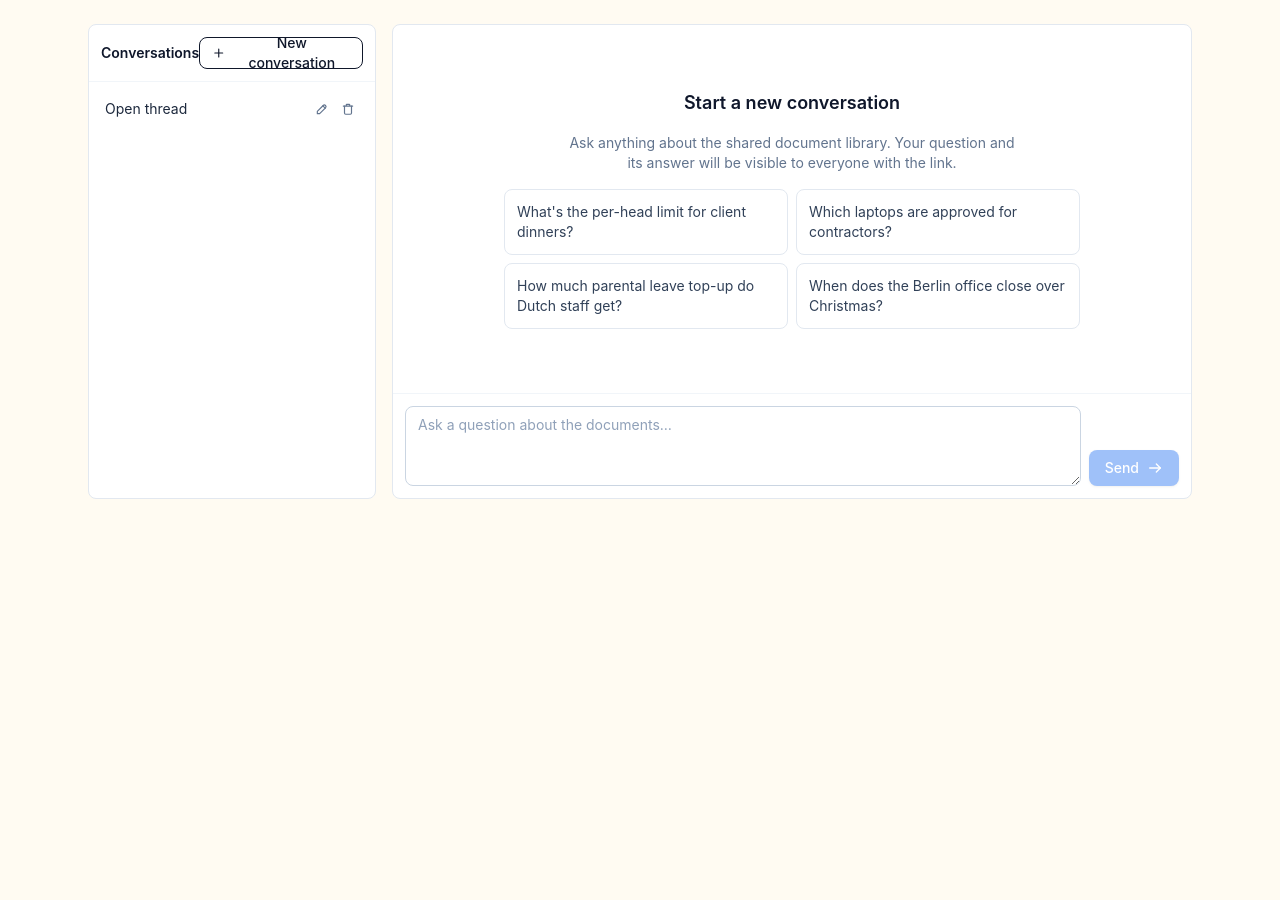
Test: Chat screen — live threads API › returns to the empty/new conversation state when deleting the currently open thread
The width and height of the screenshot is (1280, 900).
Click the button "Open thread" at (206, 109), box [105,99,307,119]
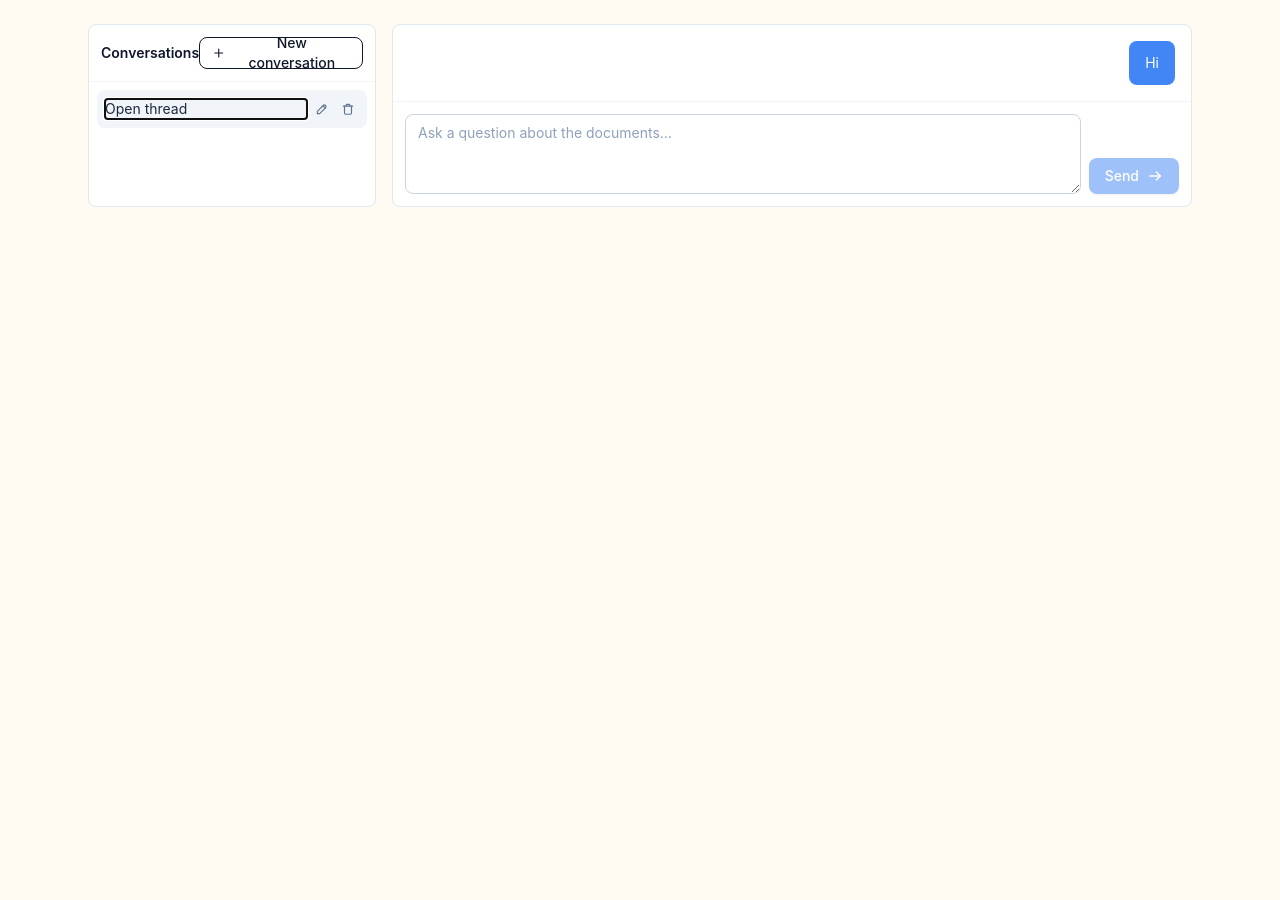
Expected: the text "Hi" is shown, [1145,53,1159,73]
Click the button named "Delete Open thread" at (348, 109), box [337,98,359,120]
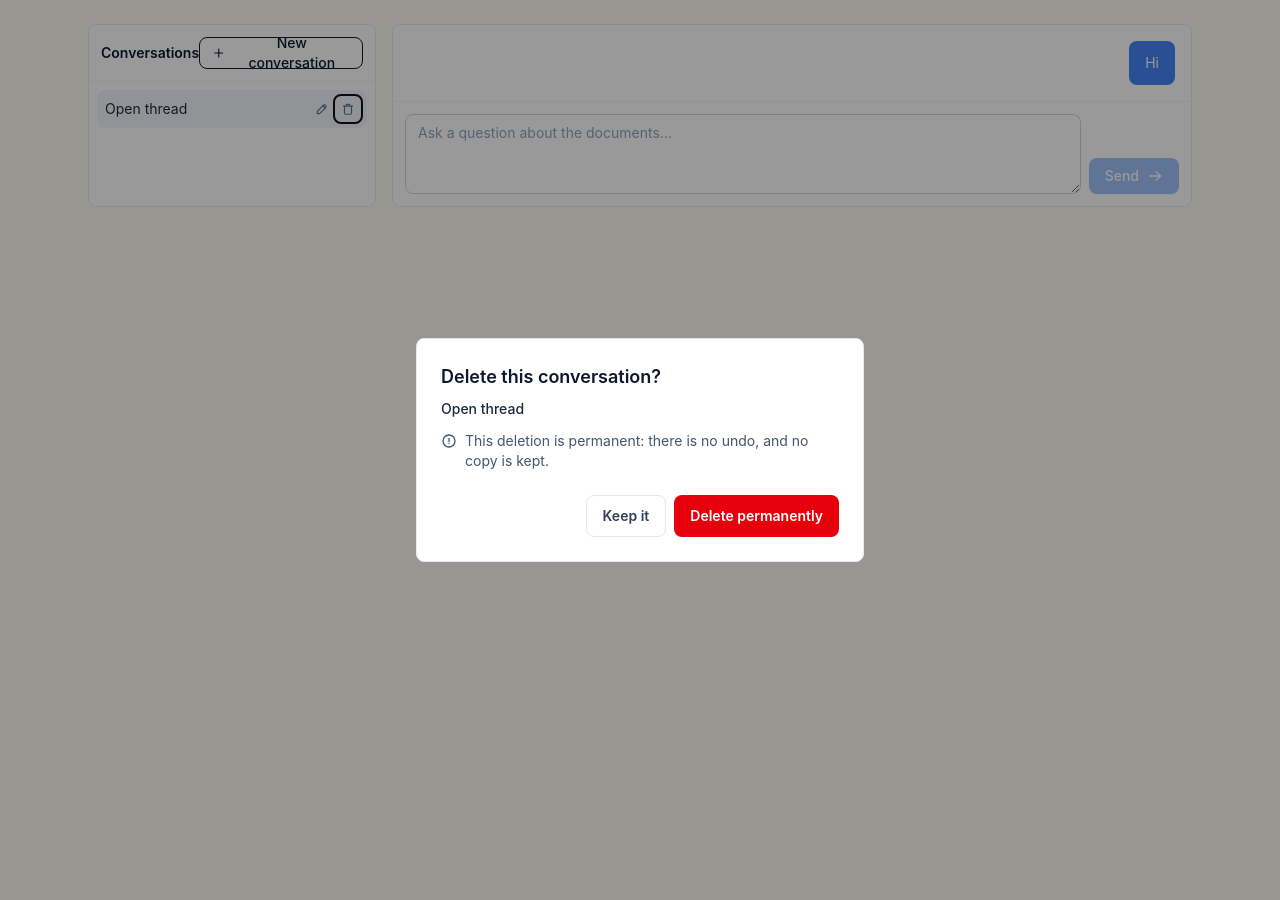
Click the button "Delete permanently" at (757, 516), box [674,495,839,537]
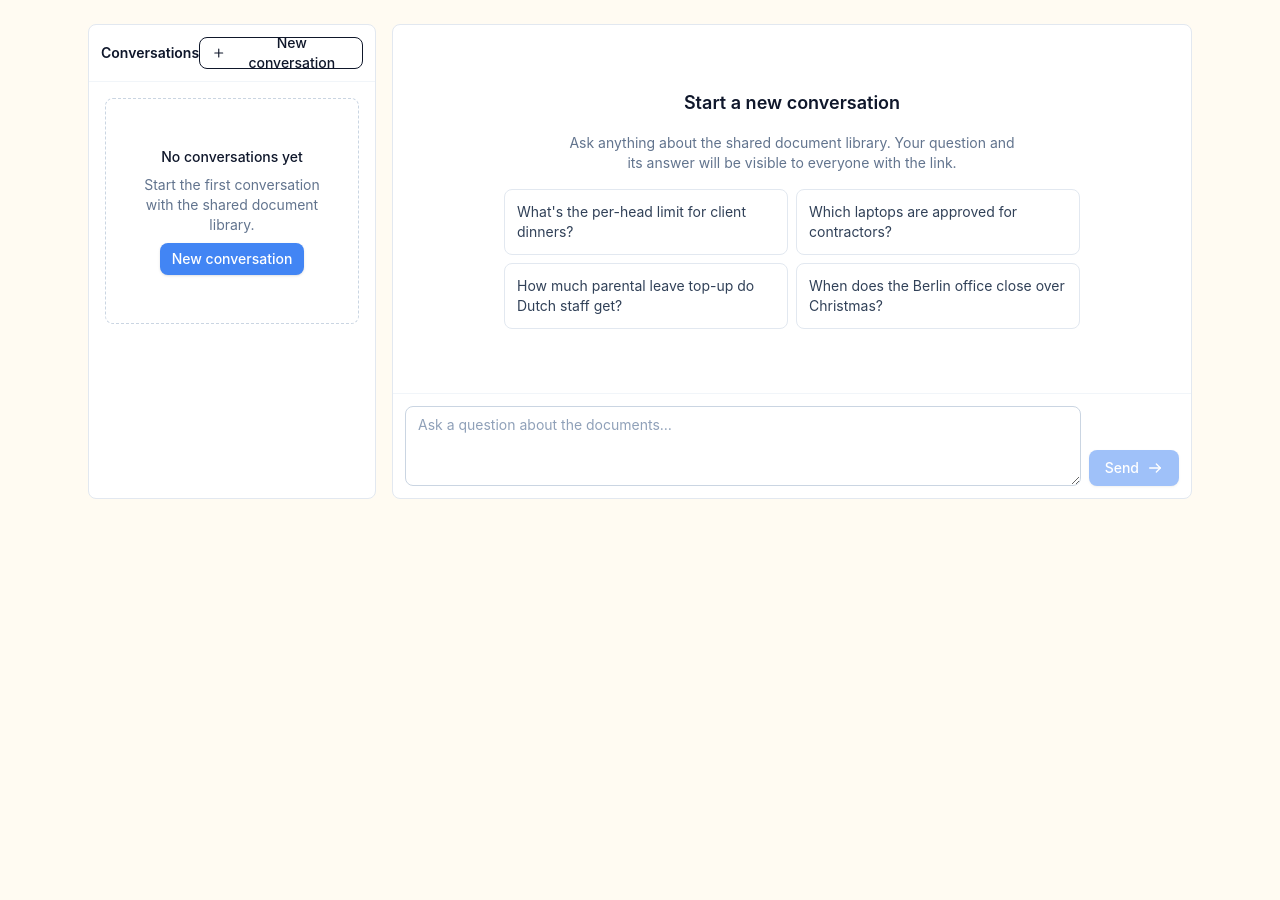
Expected: the heading "Start a new conversation" is shown, [684,89,900,117]
